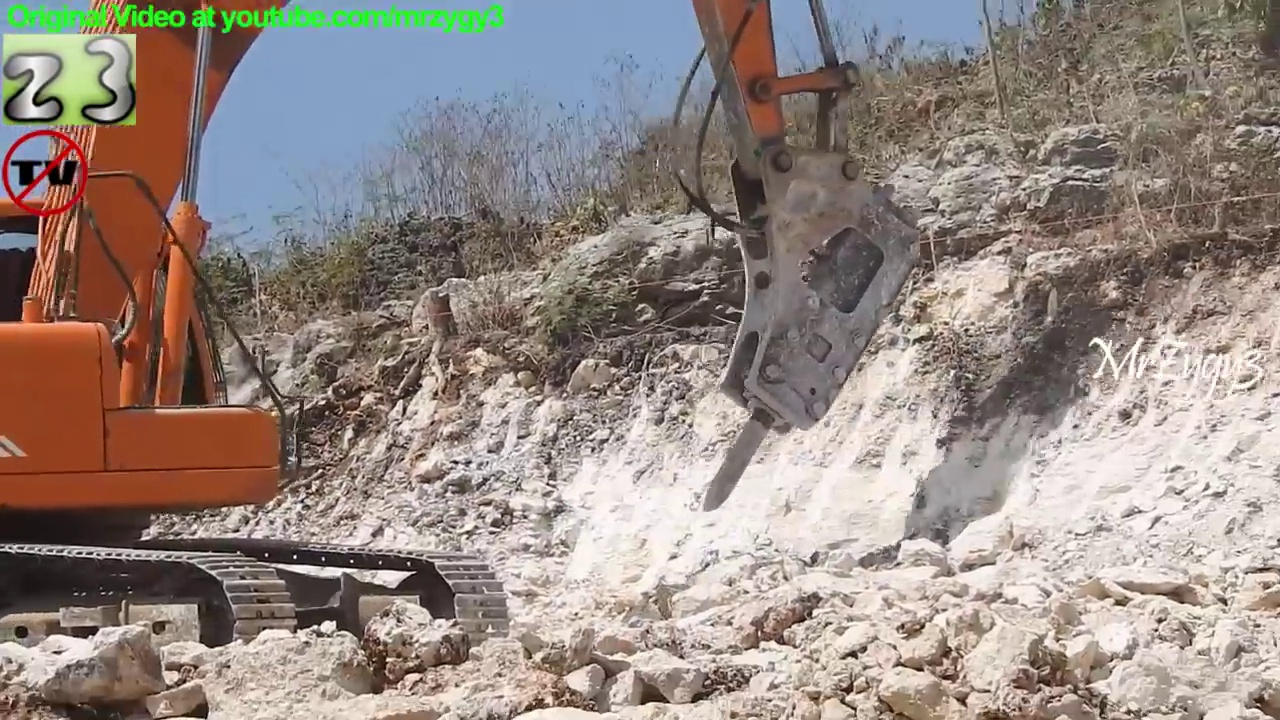excavator: (1, 1, 936, 688)
